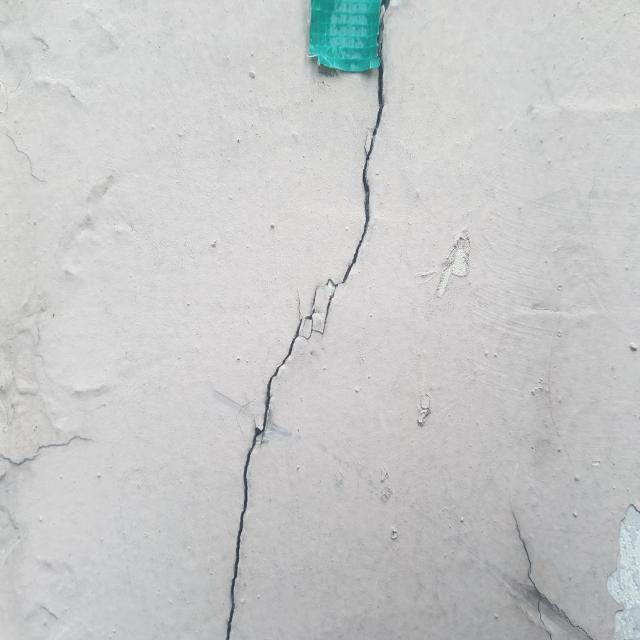SurfaceCrack: (194, 1, 423, 640)
